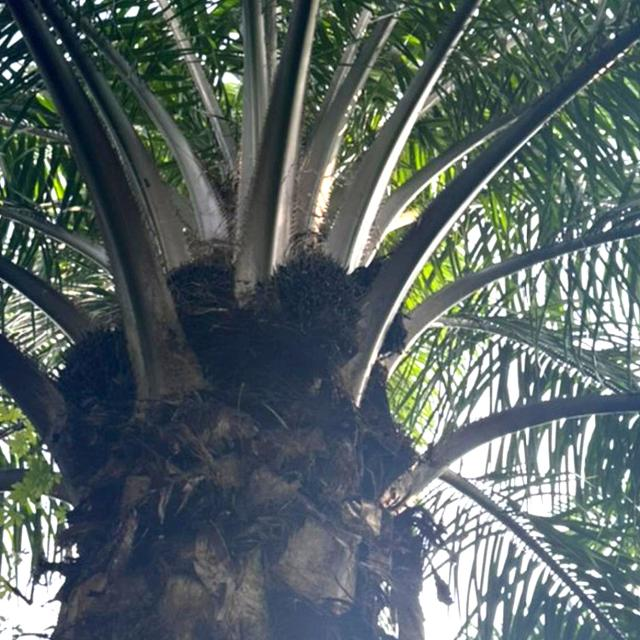unripe: (249, 240, 370, 370), (40, 320, 146, 434)
